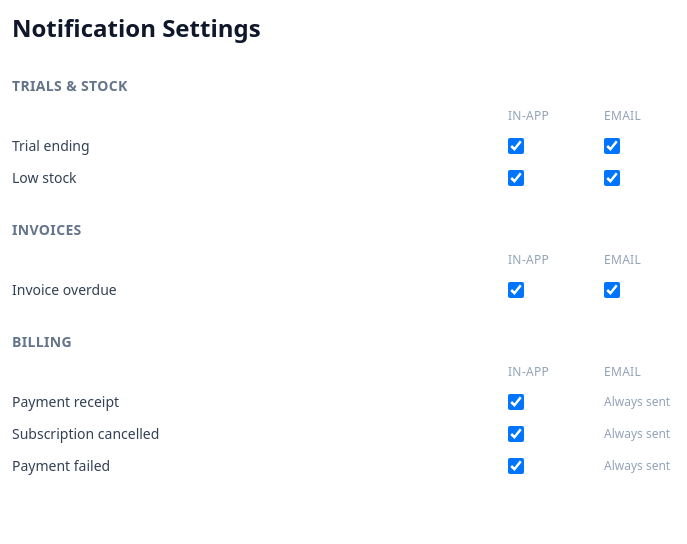
Test case: NotificationSettingsPage › reverts the toggle and shows an error message when the save fails
This screenshot has width=687, height=544.
Click the checkbox named "Low stock email": click(612, 178) [604,170,620,186]
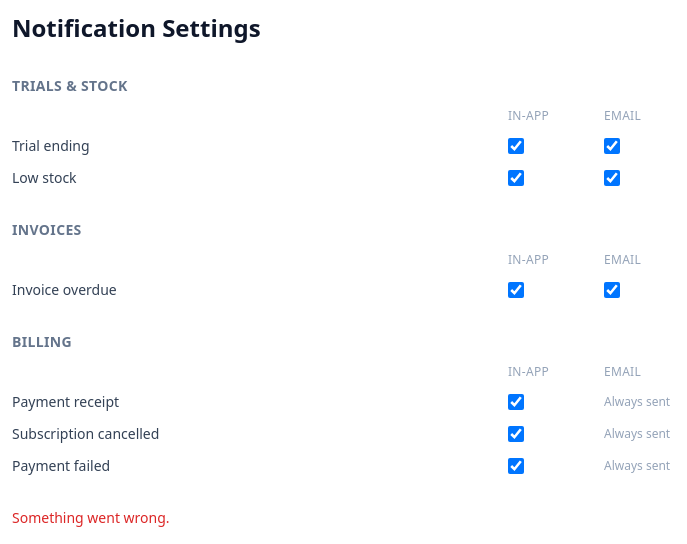
Expected: the text "Something went wrong." is shown, [12,508,170,527]
